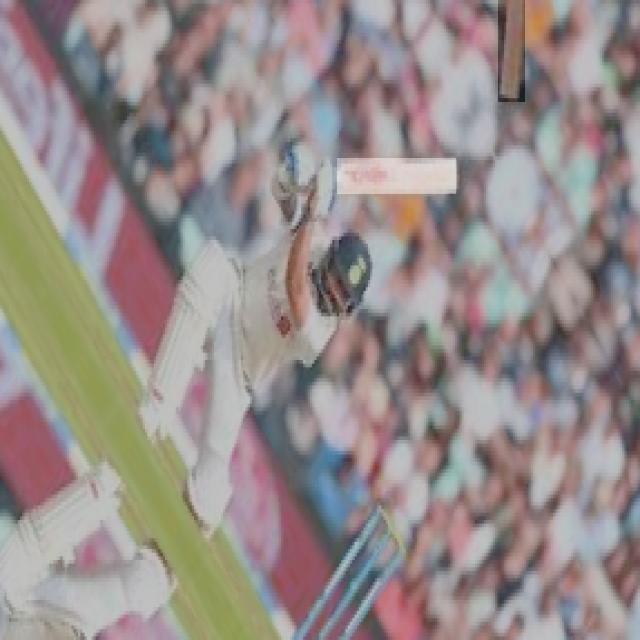bat: (335, 158, 457, 197)
toe: (444, 150, 463, 202)
